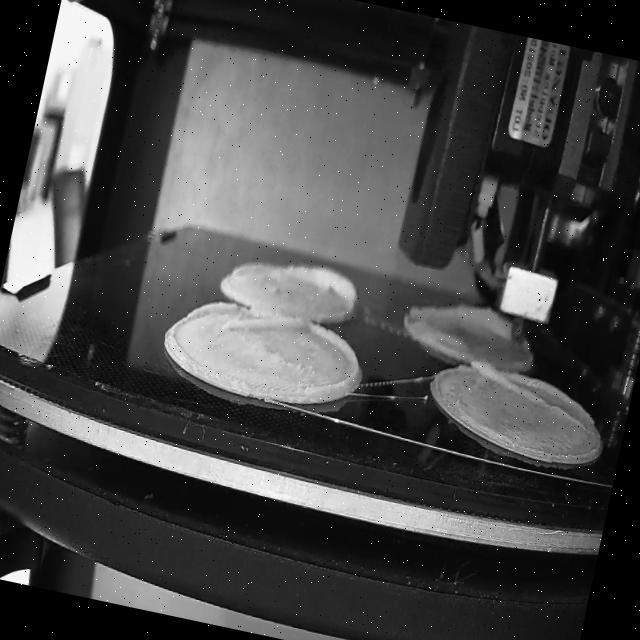over_extrusion: (459, 356, 592, 432), (184, 294, 308, 348), (294, 324, 369, 404), (412, 284, 510, 334), (280, 260, 366, 314), (230, 258, 272, 282)
